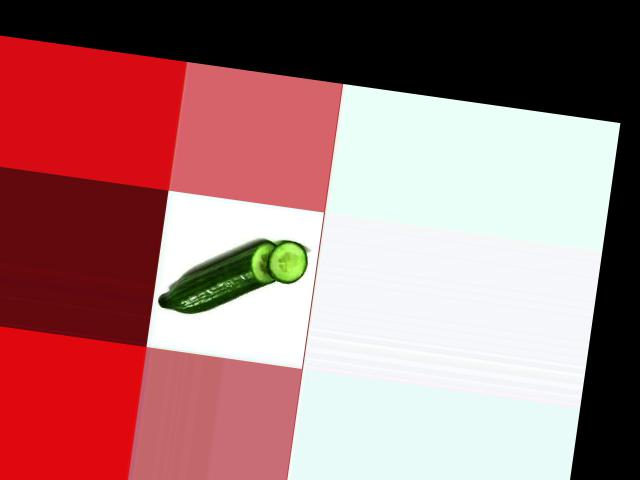cucumber: (157, 226, 283, 324)
